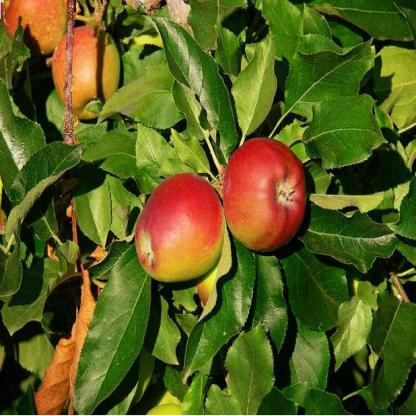apple leaf: (70, 241, 162, 415), (147, 14, 249, 162), (1, 133, 92, 240), (283, 27, 384, 116), (300, 88, 386, 183), (302, 204, 390, 284), (278, 253, 359, 339), (219, 323, 283, 415), (59, 158, 120, 252), (370, 285, 415, 406), (235, 33, 278, 138), (76, 119, 139, 176)
